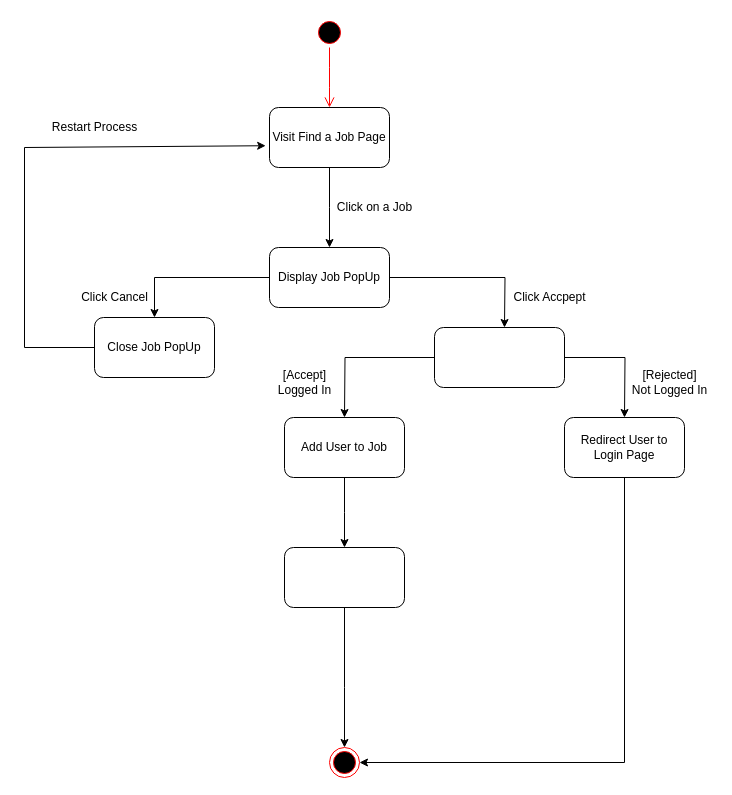
The diagram is 732 pixels wide and 795 high, and some of its shapes have lost their labels. The centre of each missing label's shape, as x and y in pixels:
Add Job to Users Accepted Jobs: the point at 344,577
Begin Authentification: the point at 499,357
